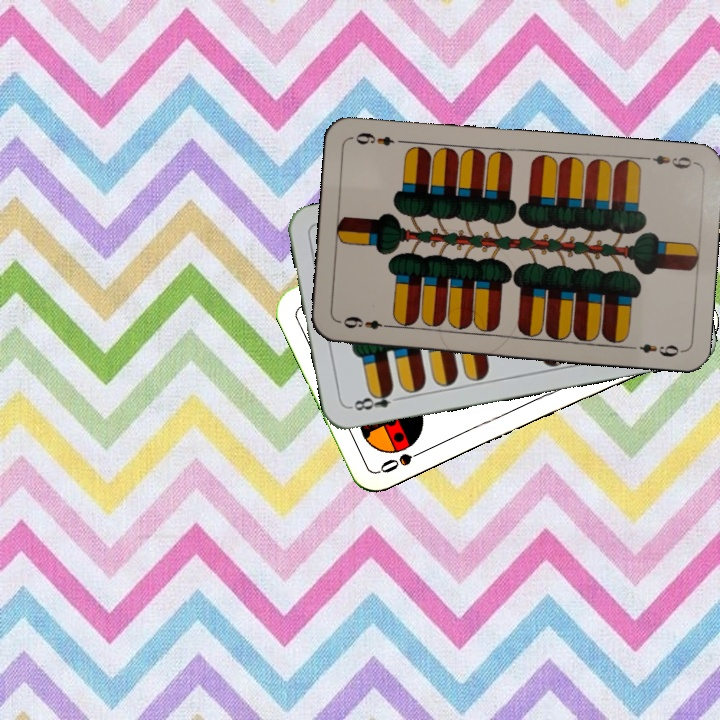E8: (347, 385, 406, 414)
E9: (639, 151, 698, 172), (336, 312, 395, 332)
SO: (376, 444, 431, 476)
